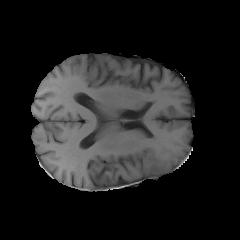glioma: (130, 136, 174, 176)
